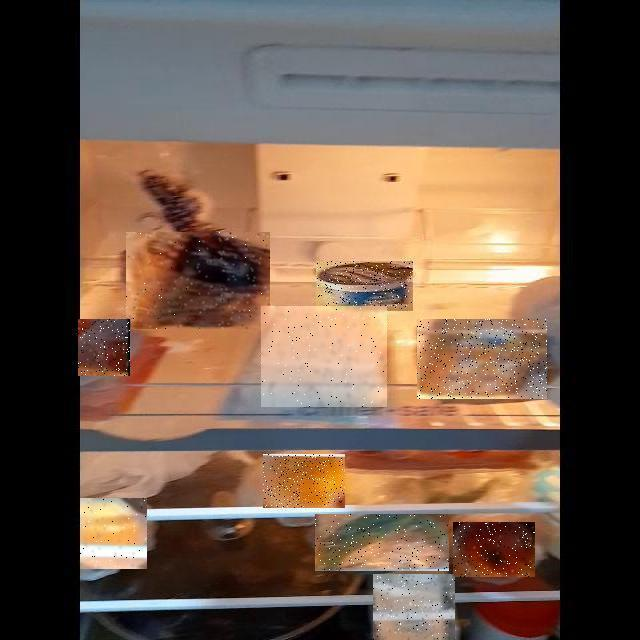cheese: (68, 204, 454, 610)
